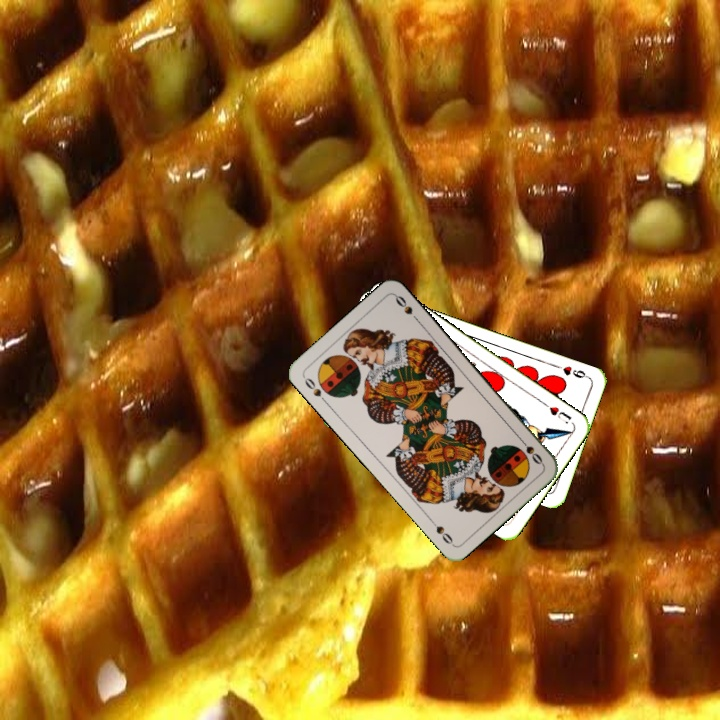H9: (552, 361, 591, 381)
HU: (540, 399, 574, 422)
SO: (515, 434, 546, 467), (299, 373, 330, 406)
